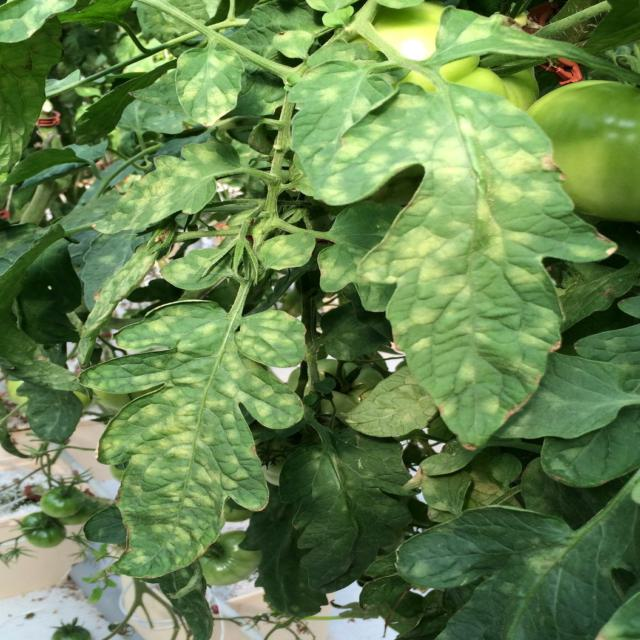Leaf_Mold: (321, 81, 617, 447), (91, 301, 303, 581), (89, 139, 223, 231), (71, 240, 157, 367), (173, 47, 244, 126), (263, 232, 315, 270), (162, 247, 197, 287)
